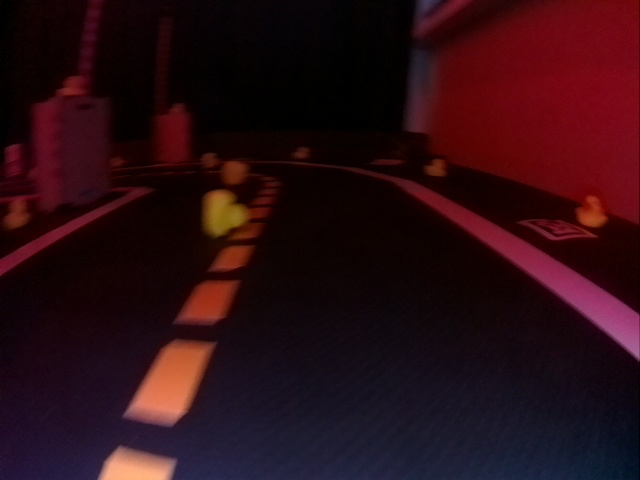Duckie: (202, 190, 247, 237), (579, 200, 608, 227), (6, 199, 30, 228), (60, 76, 88, 96), (224, 162, 247, 181), (426, 159, 447, 176), (201, 151, 216, 167), (296, 149, 309, 157)
QR code: (519, 219, 595, 241)
